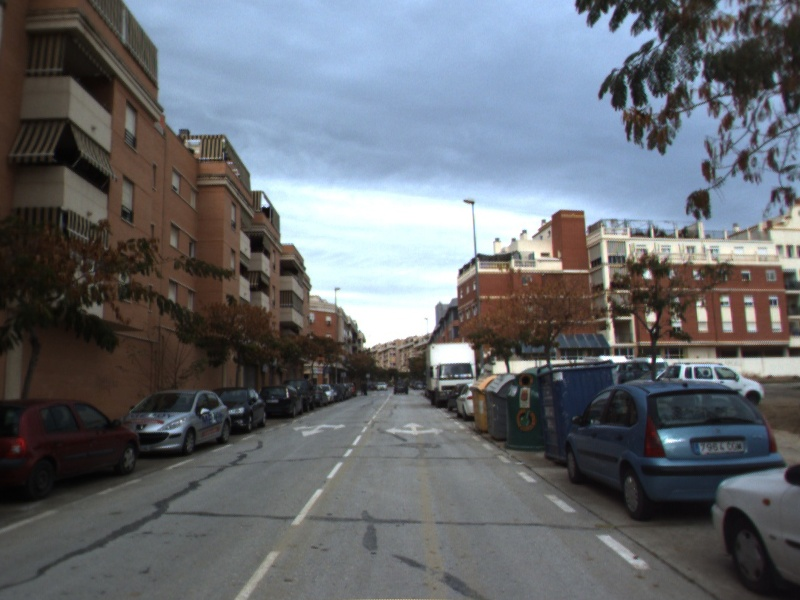STRAIGHT_LEFT_RIGHT: (383, 419, 446, 438)
